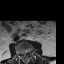CCS_normal: (24, 49, 25, 59)
LFS_severe_stenosis: (27, 50, 29, 55)
LLS_stenosis: (25, 49, 27, 56)
RFS_stenosis: (20, 50, 22, 55)
RLS_stenosis: (22, 50, 24, 56)
